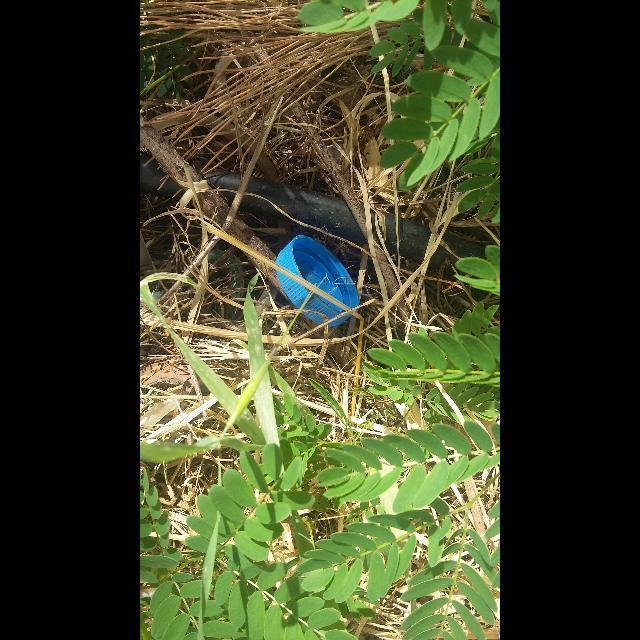Plastic: (276, 235, 358, 327)
